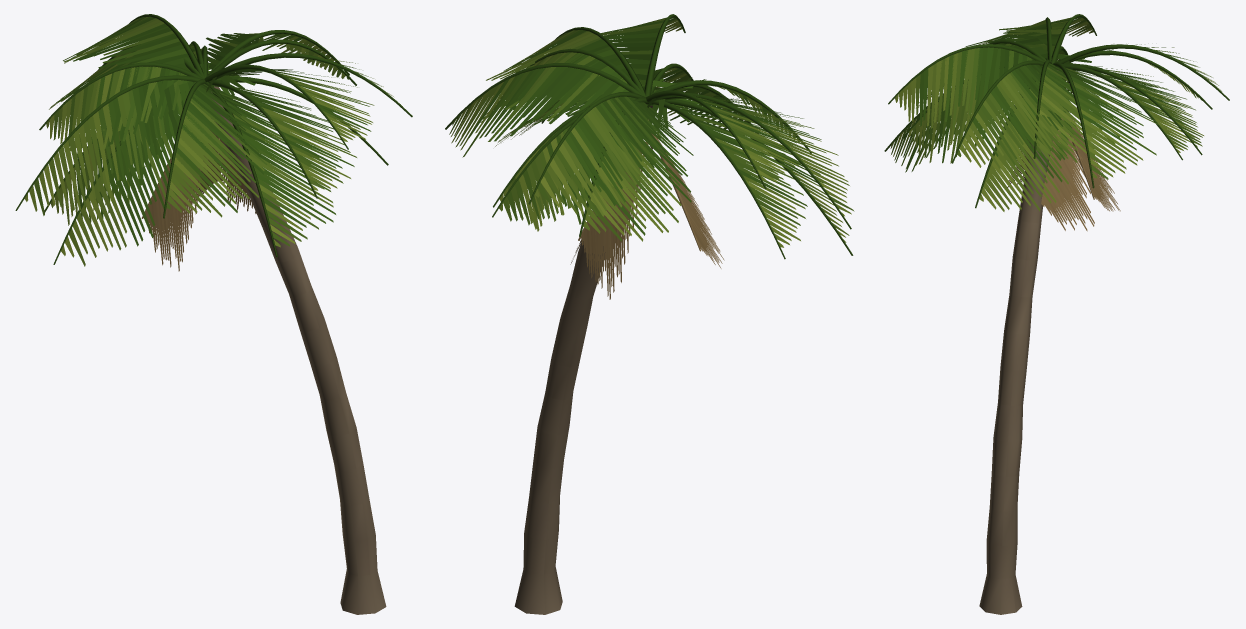
Rendered from PLN_Palm_Tall.fbx.
3 renders of one model, left to right at view 1: azimuth 30°, elevation 25°; view 2: azimuth 150°, elevation 25°; view 3: azimuth 270°, elevation 25°, orthographic. The views are drawn at different scales.
Visible parts, largest first — view 1: PLN_Palm_Tall; view 2: PLN_Palm_Tall; view 3: PLN_Palm_Tall.
Part boxes in pixels (box(x1,y1,x2,y2)): PLN_Palm_Tall: box(15, 14, 412, 614); PLN_Palm_Tall: box(445, 14, 854, 614); PLN_Palm_Tall: box(884, 14, 1229, 614).
Bounding box in the file's own units: 6.8 × 10.2 × 6.26.
